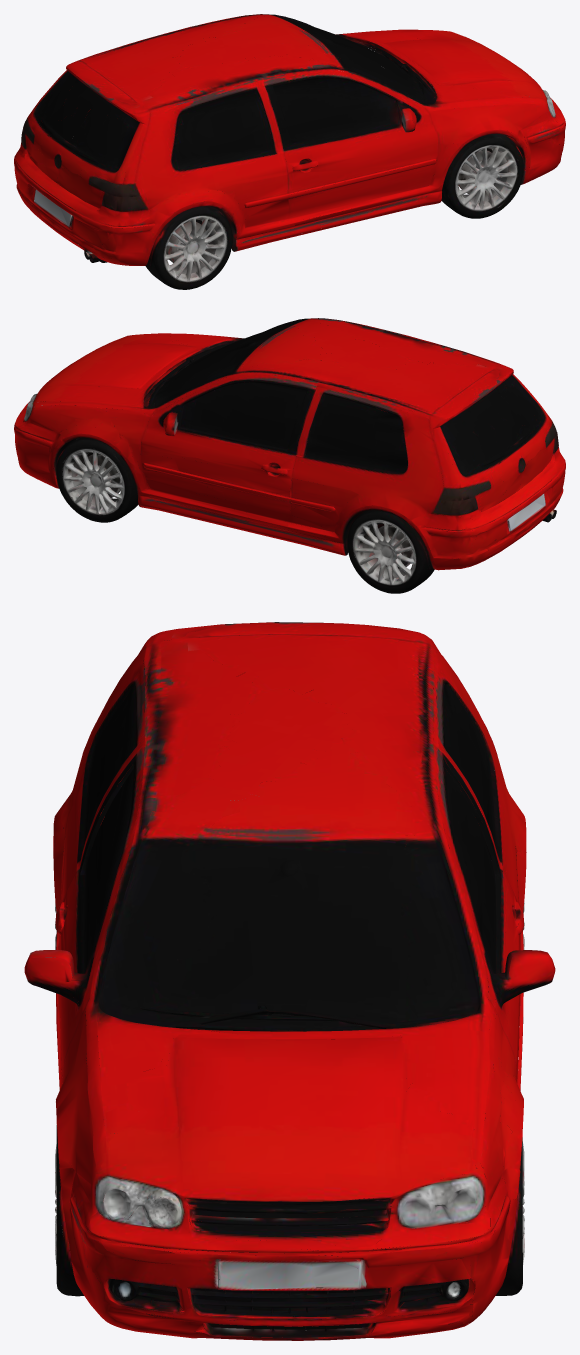
The model's file is golfik.glb.
3 views of the same model, one above another, from view 1: azimuth 30°, elevation 25°; view 2: azimuth 150°, elevation 25°; view 3: azimuth 270°, elevation 25° (orthographic). The views are drawn at different scales.
Parts seen in each view (by area): view 1: Body, Wheel_RR, Wheel_FR; view 2: Body, Wheel_RL, Wheel_FL; view 3: Body, Wheel_FR, Wheel_FL.
Boxes of the visible parts, bbox=[...] form: Body: bbox=[14, 14, 565, 276]; Wheel_RR: bbox=[145, 200, 236, 289]; Wheel_FR: bbox=[441, 130, 525, 218]; Body: bbox=[14, 318, 565, 570]; Wheel_RL: bbox=[343, 505, 434, 593]; Wheel_FL: bbox=[53, 434, 138, 522]; Body: bbox=[24, 622, 555, 1340]; Wheel_FR: bbox=[55, 1125, 131, 1296]; Wheel_FL: bbox=[466, 1113, 524, 1295].
Size of the model in its own units: 0.9998 by 0.3503 by 0.4744.
1 material, 1 textured.
